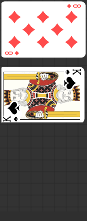8D: (66, 2, 83, 9)
